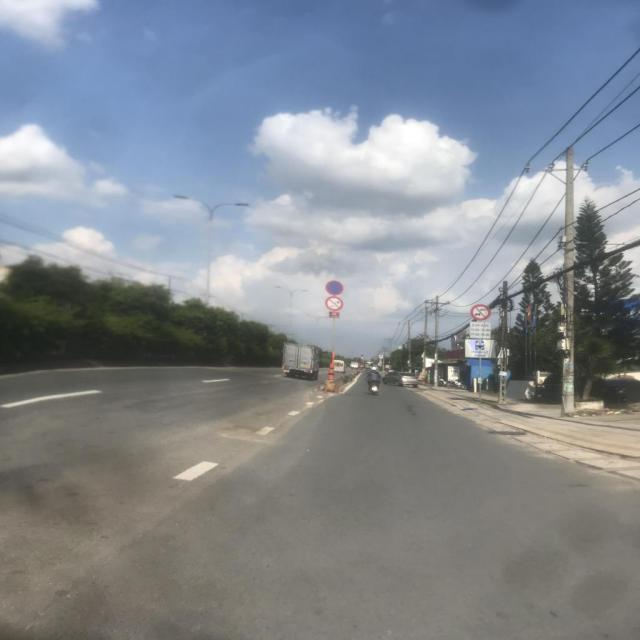cam_dung_xe_va_do_xe: (326, 281, 344, 295)
cam_o_to_tai_va_xe_khach: (470, 304, 491, 321)
cam_xe_2_banh_va_xe_3_banh_co_dong_co: (325, 296, 344, 311)
khac: (465, 339, 496, 358), (469, 321, 490, 339)
